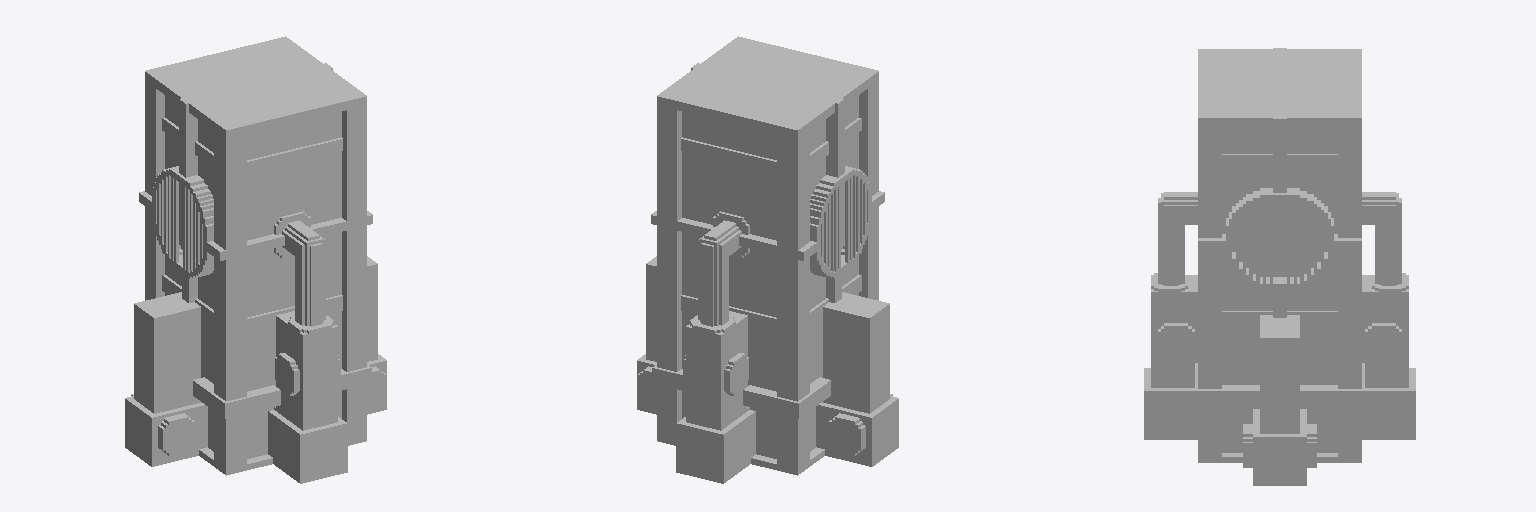
Rendered from zeroPointModule.obj.
The picture shows the model from 3 angles: view 1: azimuth 30°, elevation 25°; view 2: azimuth 150°, elevation 25°; view 3: azimuth 270°, elevation 25°; orthographic projection.
Parts seen in each view (by area): view 1: Zero_Point_Module; view 2: Zero_Point_Module; view 3: Zero_Point_Module.
Boxes of the visible parts, x1=… form: Zero_Point_Module: x1=125, y1=36, x2=386, y2=483; Zero_Point_Module: x1=637, y1=36, x2=898, y2=483; Zero_Point_Module: x1=1144, y1=48, x2=1415, y2=485.
Bounding box in the file's own units: 80 × 112 × 80.